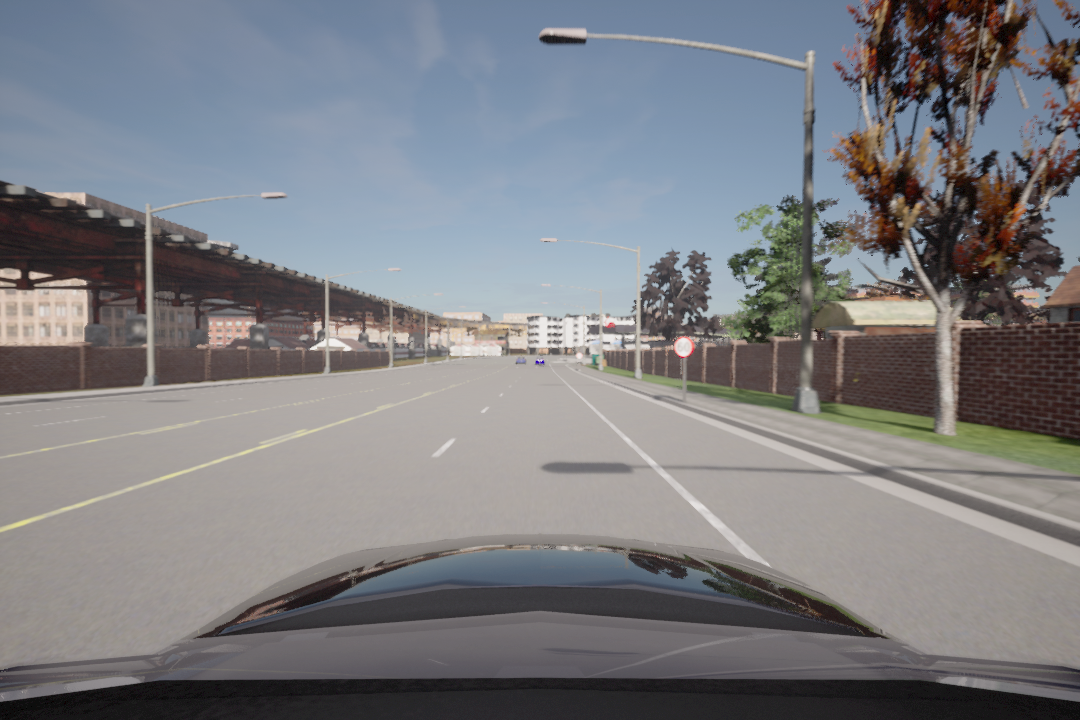TrafficSign_speed: (674, 336, 693, 357)
